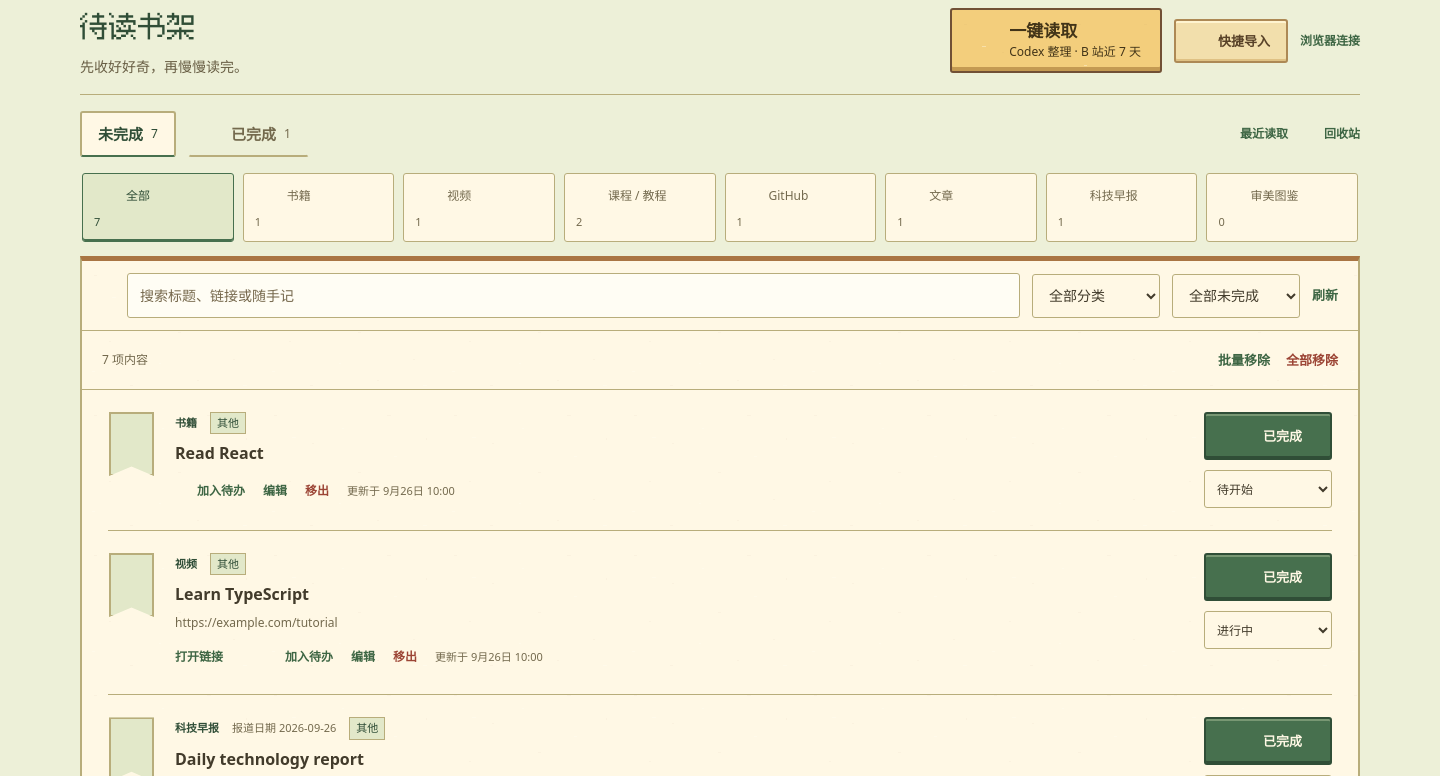
Test case: reading shelf completion › offers a distinct completion action for every material type and formal report
Expected: the button "已完成" in the row of "Read React" is shown, 1204,412 -> 1332,460
Expected: the button "已完成" in the row of "Learn TypeScript" is shown, 1204,553 -> 1332,601
Click the button "已完成" in the row of "Daily technology report". click: (1268, 741)
box: 1204,717 -> 1332,765
Wait 2000 ms
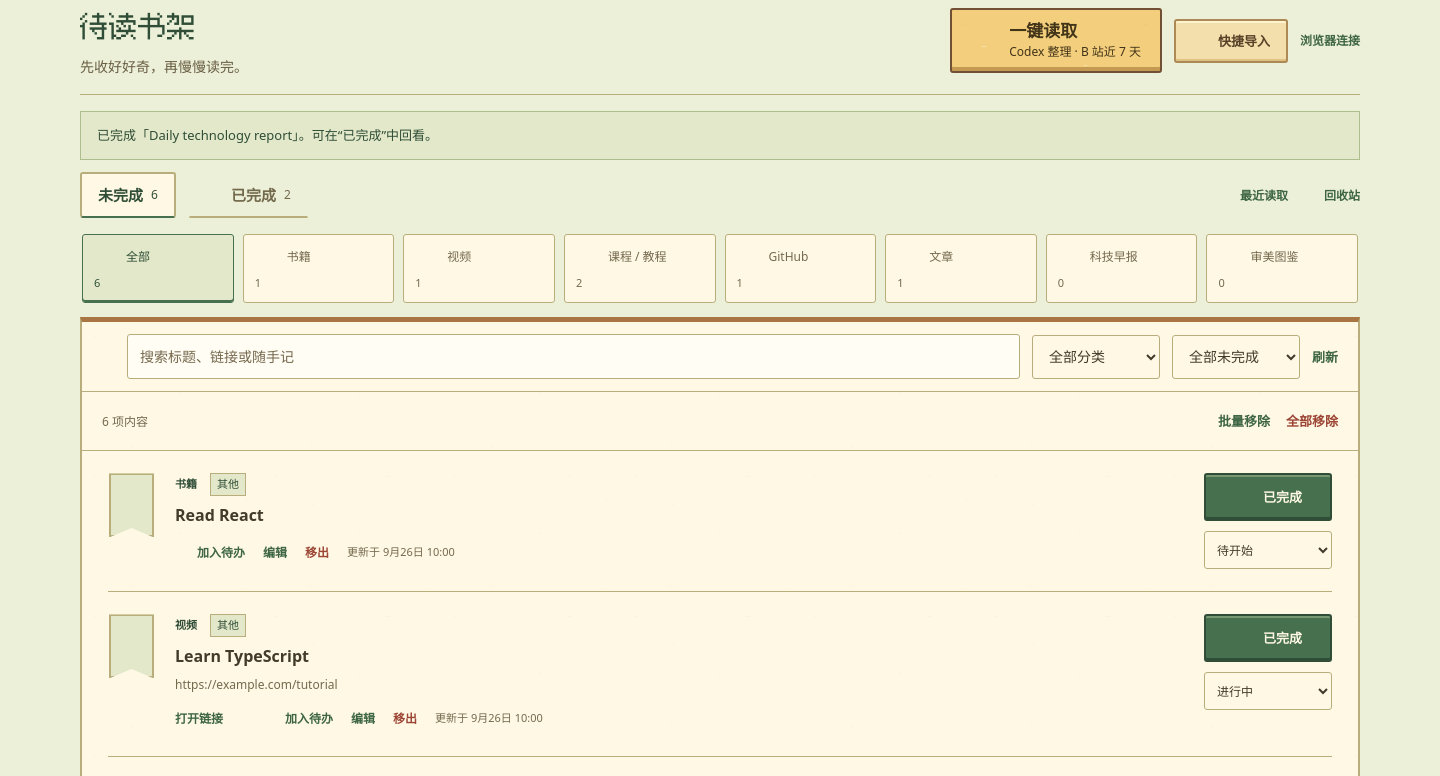
Click the button "已完成 2". click: (248, 195)
box: 188,172 -> 309,218
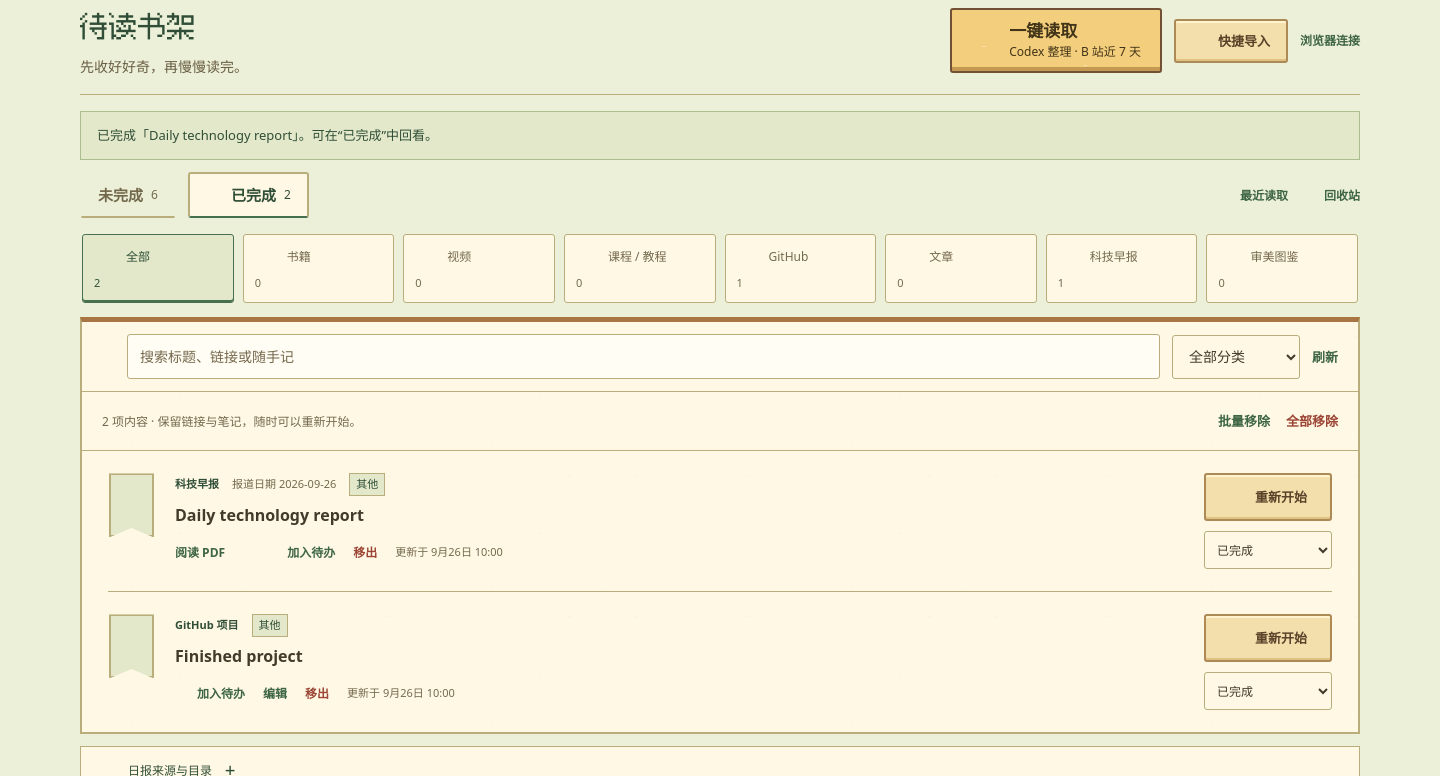
Expected: the button "重新开始" in the row of "2026-09-26" is shown, 1204,474 -> 1332,522
